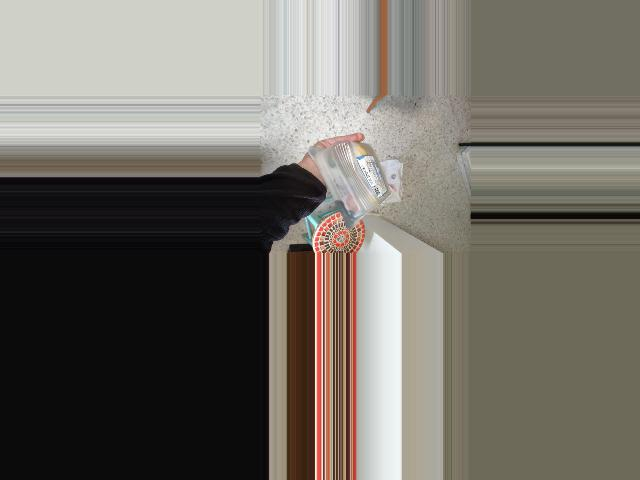cheese: (321, 159, 412, 198)
